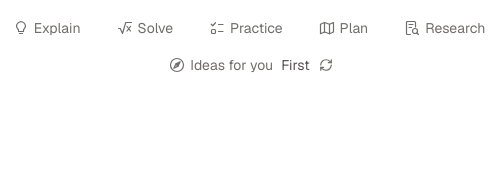
Test case: asks the backend for a new suggestion on every refresh
Expected: the button "Ideas for you First" is shown, [157, 49, 314, 81]
Step 1. Click the button named "Suggest something else" → (326, 65), box [314, 53, 338, 77]
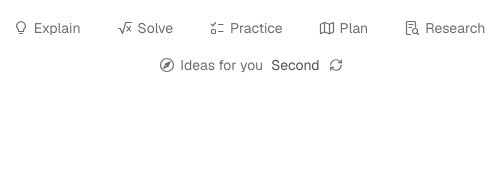
Expected: the button "Ideas for you Second" is shown, [147, 49, 324, 81]
Expected: the button "First" is gone
